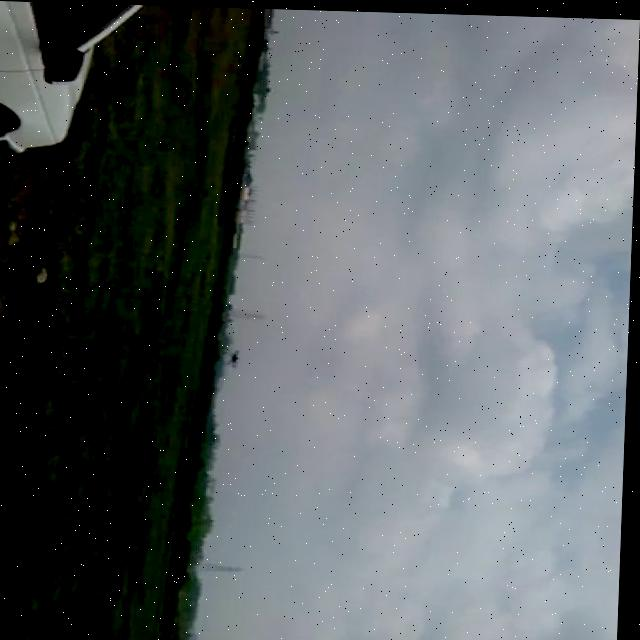drone: (226, 346, 250, 368)
